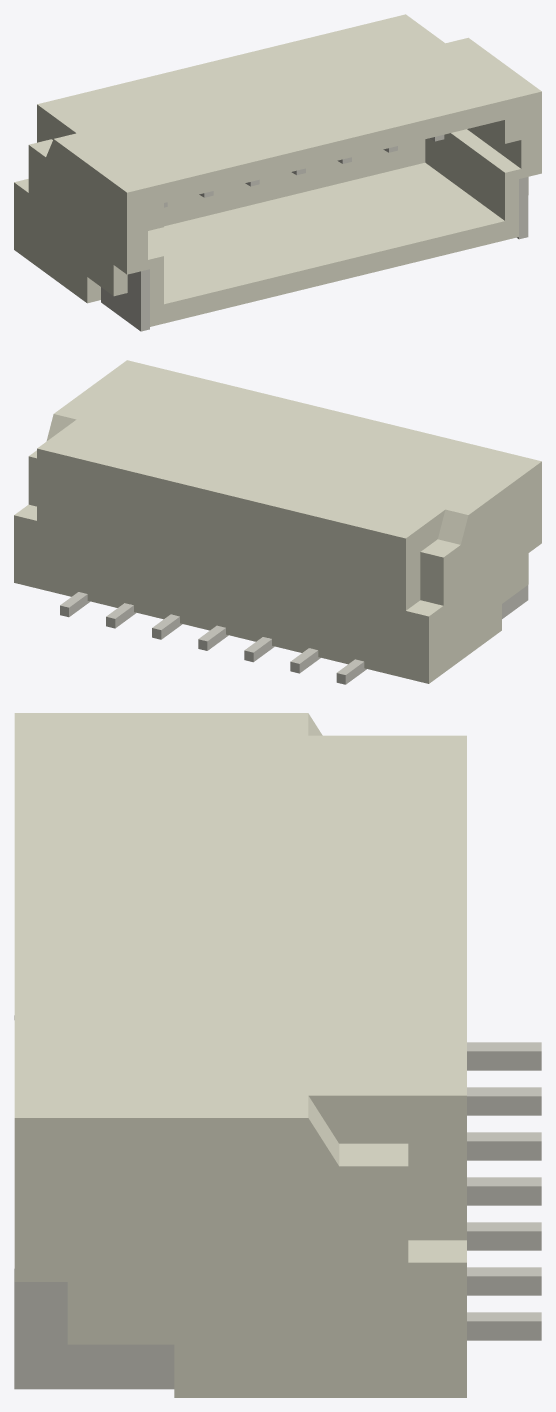
Rendered from kc-jst_sh_sm07b-srss-tb_1x07-1mp_p1.00mm_horizontal.glb.
The picture shows the model from 3 angles, top to bottom: view 1: azimuth 30°, elevation 25°; view 2: azimuth 150°, elevation 25°; view 3: azimuth 270°, elevation 25°; orthographic projection. The views are drawn at different scales.
Visible parts, largest first — view 1: 0.75_0.75_0.6666666666666666_0, 0.6666666666666666_0.6666666666666666_0.5833333333333334_0.8; view 2: 0.75_0.75_0.6666666666666666_0, 0.6666666666666666_0.6666666666666666_0.5833333333333334_0.8; view 3: 0.75_0.75_0.6666666666666666_0, 0.6666666666666666_0.6666666666666666_0.5833333333333334_0.8.
Part boxes in pixels (x1,y1,x2,y2): 0.75_0.75_0.6666666666666666_0: [14, 14, 541, 326]; 0.6666666666666666_0.6666666666666666_0.5833333333333334_0.8: [101, 135, 528, 331]; 0.75_0.75_0.6666666666666666_0: [14, 360, 541, 683]; 0.6666666666666666_0.6666666666666666_0.5833333333333334_0.8: [60, 585, 528, 684]; 0.75_0.75_0.6666666666666666_0: [14, 713, 466, 1397]; 0.6666666666666666_0.6666666666666666_0.5833333333333334_0.8: [14, 1015, 541, 1389].
Bounding box in the file's own units: 0.9 × 0.296 × 0.495.
